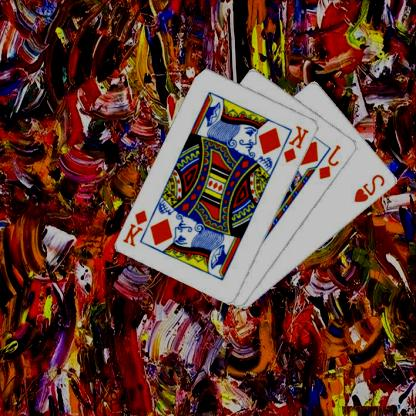2H: (353, 171, 389, 204)
JD: (318, 142, 344, 181)
KD: (283, 123, 312, 164), (122, 208, 151, 248)
